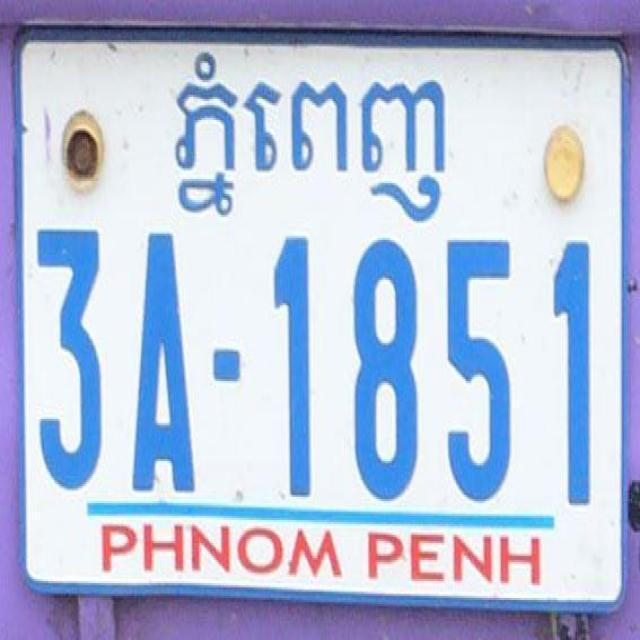Phnom_Penh: (175, 51, 444, 226)
